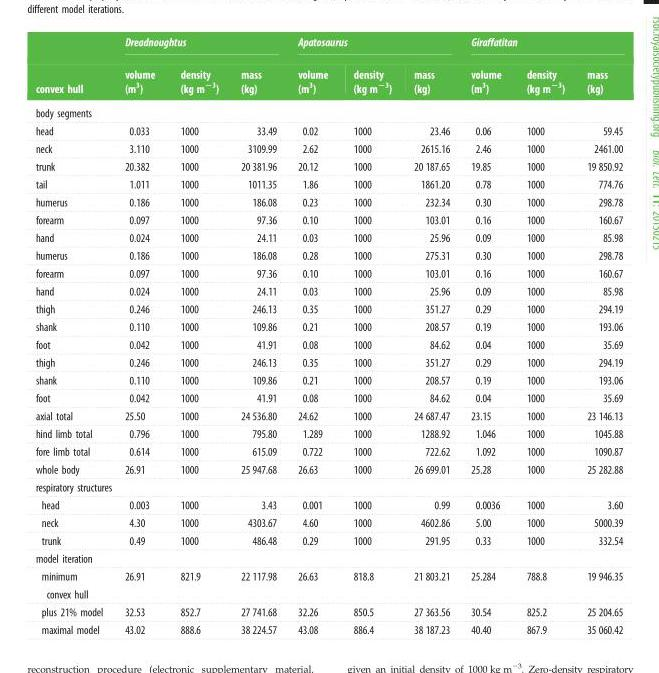table: (34, 35, 622, 635)
table column: (34, 35, 113, 635), (167, 35, 229, 635), (340, 35, 402, 635), (513, 35, 575, 635), (229, 35, 286, 635), (402, 35, 459, 635), (113, 35, 167, 635), (286, 35, 340, 635), (459, 35, 513, 635), (575, 35, 622, 635)
table column header: (34, 35, 622, 100)
table projected row header: (34, 100, 622, 121), (34, 477, 622, 495), (34, 549, 622, 567)
table row: (34, 57, 622, 100), (34, 567, 622, 602), (34, 35, 622, 57), (34, 100, 622, 121), (34, 121, 622, 139), (34, 139, 622, 157), (34, 157, 622, 175), (34, 192, 622, 210), (34, 210, 622, 228), (34, 228, 622, 246), (34, 246, 622, 264), (34, 281, 622, 299), (34, 299, 622, 317), (34, 317, 622, 335), (34, 335, 622, 353), (34, 353, 622, 371), (34, 388, 622, 406), (34, 406, 622, 424), (34, 424, 622, 442), (34, 442, 622, 460), (34, 477, 622, 495), (34, 495, 622, 513), (34, 513, 622, 531), (34, 531, 622, 549), (34, 549, 622, 567), (34, 602, 622, 620), (34, 175, 622, 192), (34, 264, 622, 281), (34, 371, 622, 388), (34, 460, 622, 477), (34, 620, 622, 635)
table spanning cell: (34, 35, 113, 100), (113, 35, 286, 57), (286, 35, 459, 57), (459, 35, 622, 57)
